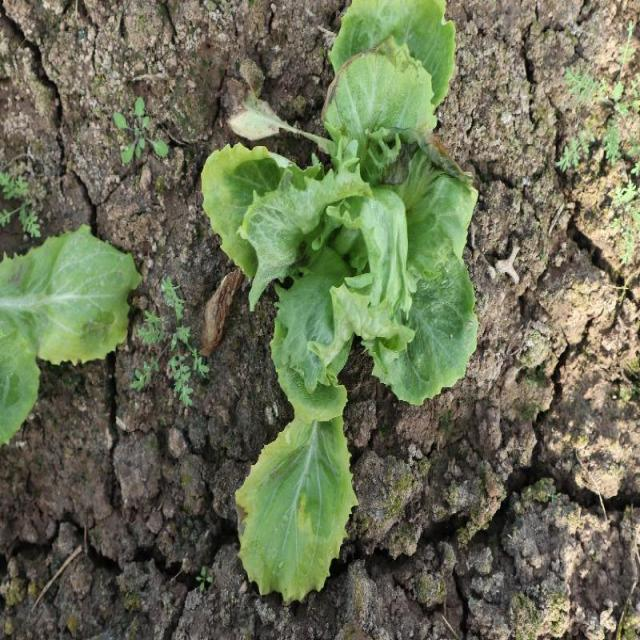crop: (198, 0, 482, 402)
